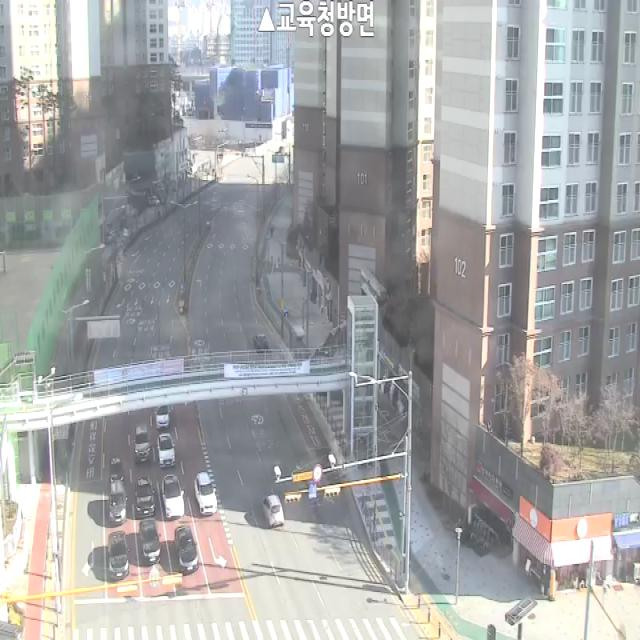Car: (175, 527, 199, 574), (109, 530, 130, 580), (139, 518, 161, 564), (194, 472, 217, 515), (162, 475, 184, 518), (135, 477, 155, 517), (262, 495, 284, 526), (157, 433, 175, 468), (135, 426, 151, 465), (155, 405, 170, 429), (110, 458, 123, 484), (254, 335, 271, 353)
Truck: (110, 480, 127, 526)
